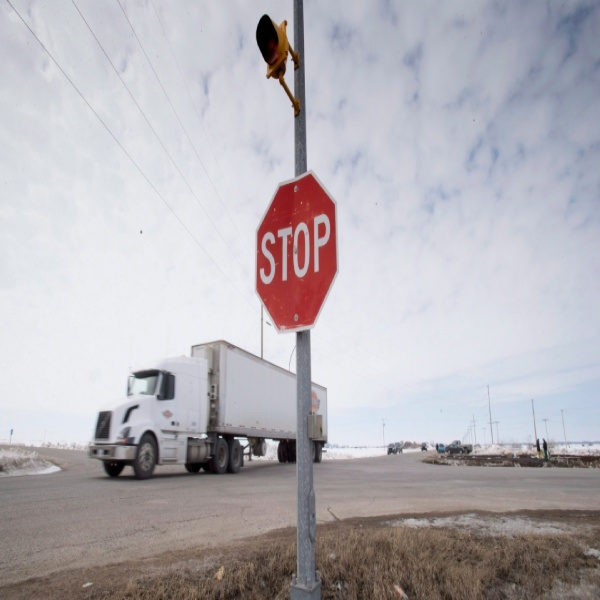stop: (258, 175, 336, 335)
